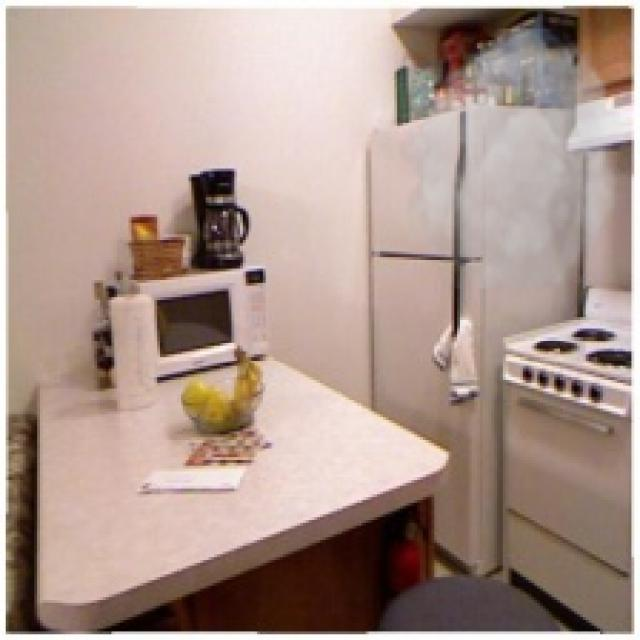smoke: (397, 28, 634, 288)
